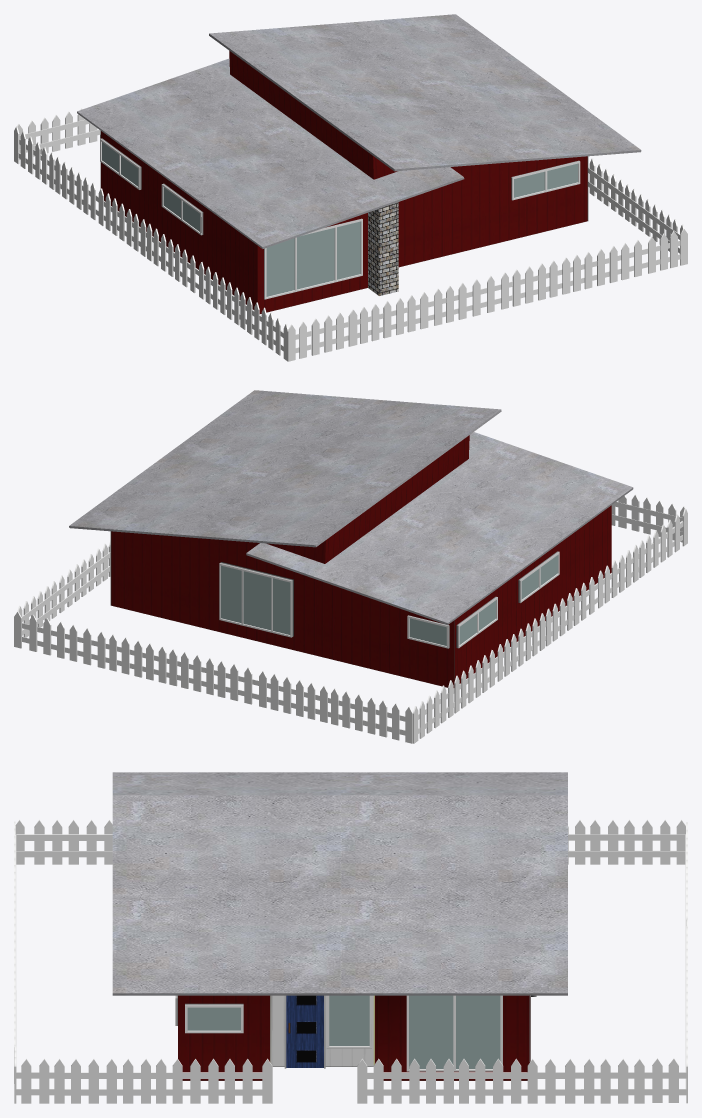
Rendered from 50s_House_Red.glb.
3 renders of one model, top to bottom at view 1: azimuth 30°, elevation 25°; view 2: azimuth 150°, elevation 25°; view 3: azimuth 270°, elevation 25°, orthographic. The views are drawn at different scales.
Bounding box in the file's own units: 13.47 × 4.1 × 16.
Materials: 5 (4 with a texture image).
